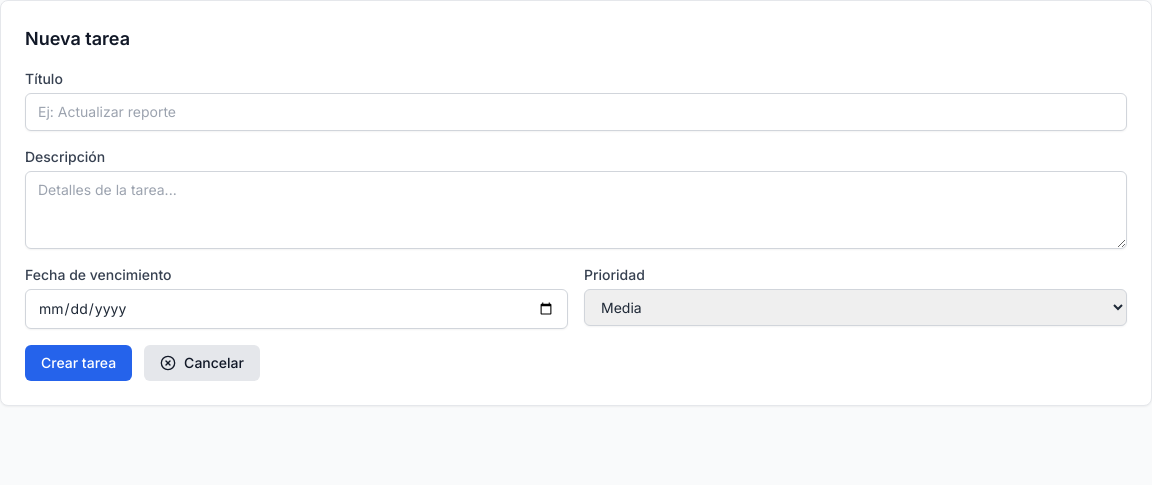
Test: TodoForm › blocks blank values
The width and height of the screenshot is (1152, 485).
Click the button "Crear tarea".
click(79, 363)  # box left=25, top=345, right=132, bottom=381
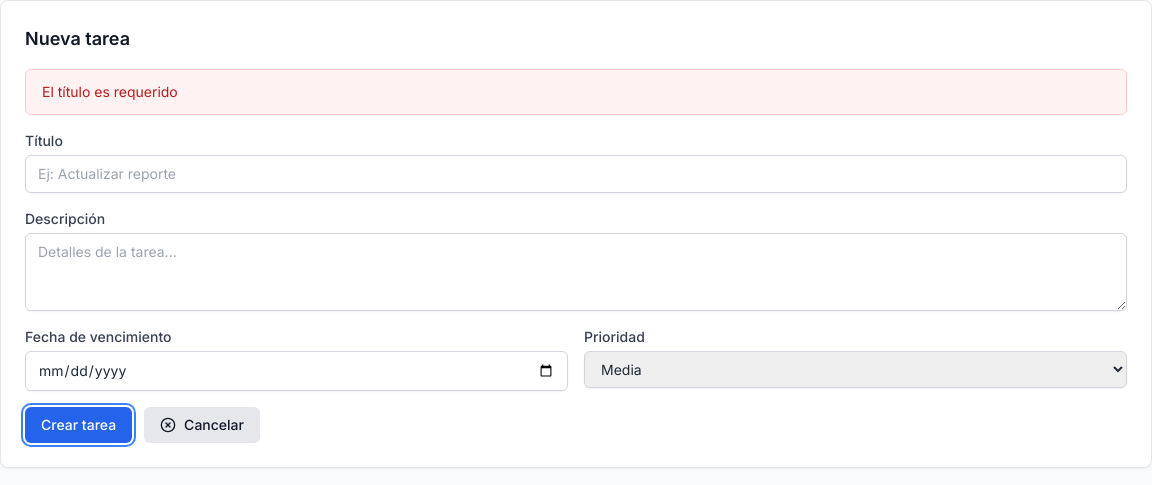
Now the message reads "El título es requerido", box left=42, top=83, right=178, bottom=100
